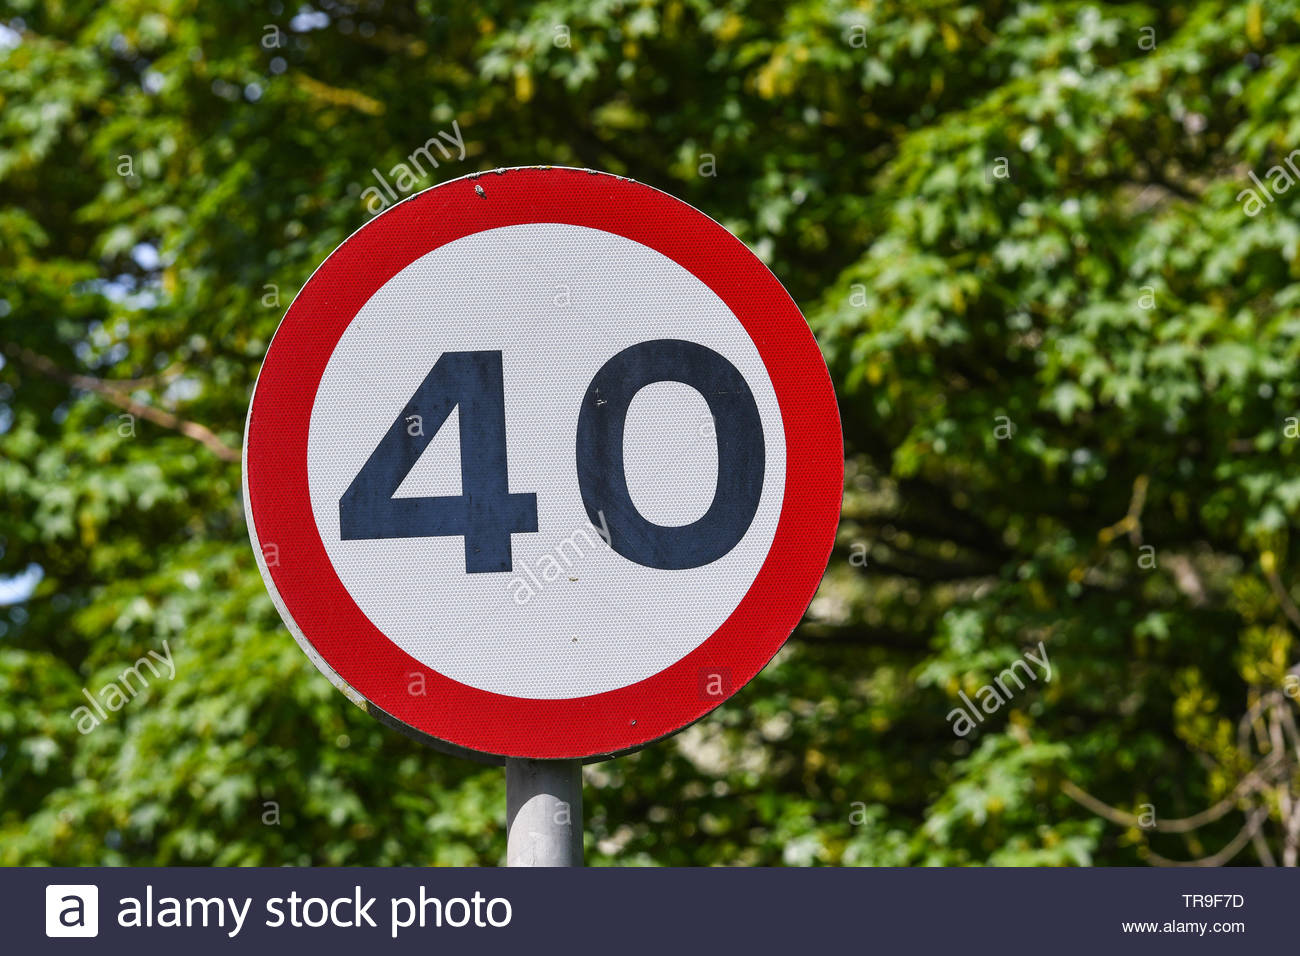40 Km/hr: (247, 168, 845, 754)
